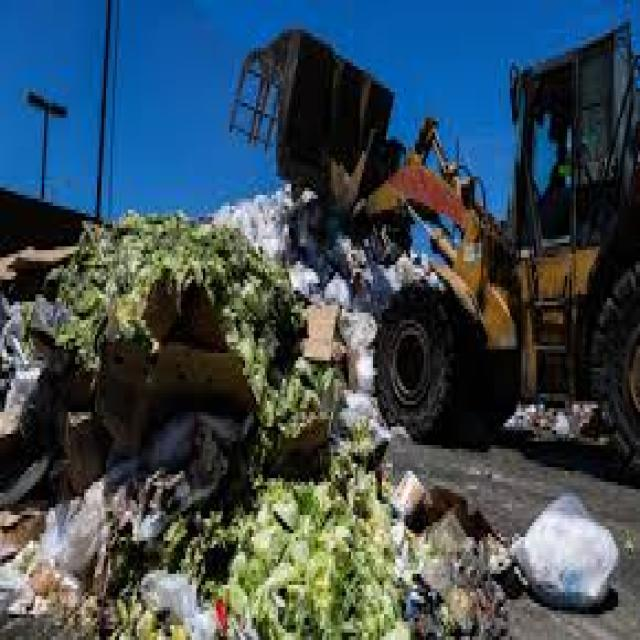Organic: (37, 207, 351, 458), (214, 459, 408, 640)
